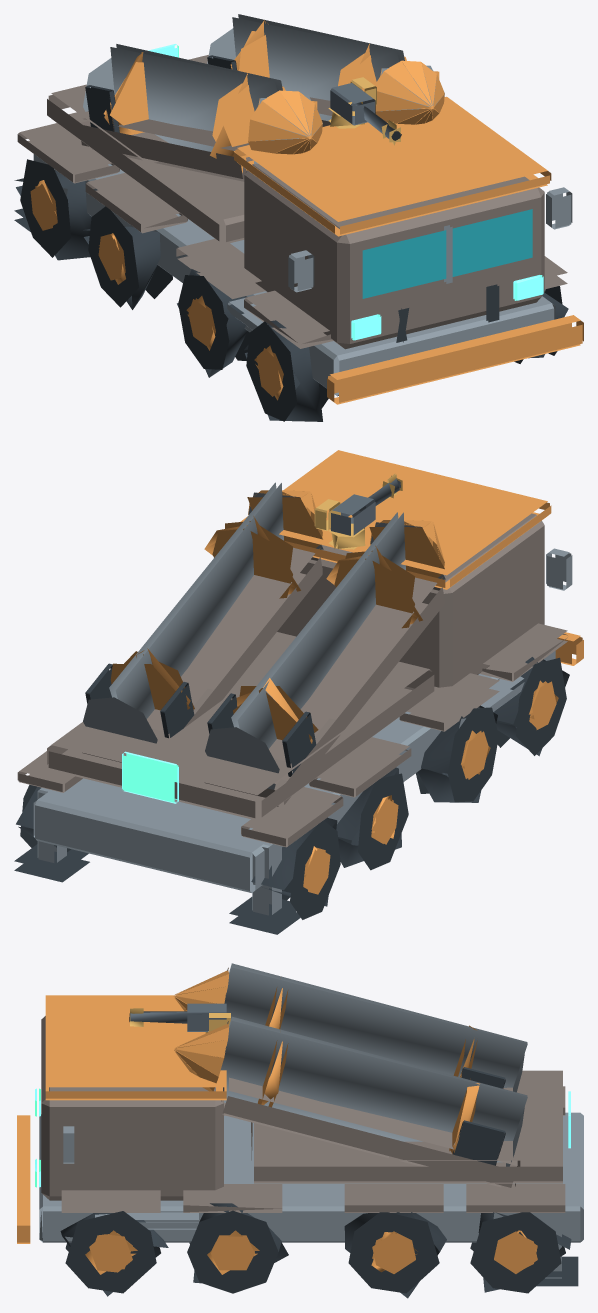
File: boss-missile-truck.glb
3 views of the same model, one above another, from view 1: azimuth 30°, elevation 25°; view 2: azimuth 150°, elevation 25°; view 3: azimuth 270°, elevation 25° (orthographic). The views are drawn at different scales.
Visible parts, largest first — view 1: Armored cab, Cab roof, Radiator grille, Truck chassis, Missile casing, Launch deck, Split windshield, Canister band, Missile casing.001, Canister band.002, Launcher cradle, Auxiliary receiver (+3 smaller); view 2: Armored cab, Truck chassis, Radiator grille, Cab roof, Launch deck, Missile casing, Missile casing.001, Launcher cradle, Launcher cradle.001, Canister band, Canister band.002, Core (+4 smaller); view 3: Armored cab, Cab roof, Radiator grille, Missile casing.001, Truck chassis, Missile casing, Launch deck, Launcher cradle.001, Canister band.002, Canister band, Missile fin.002, Auxiliary receiver (+2 smaller).
Boxes of the visible parts, box(x1,y1,x2,y2) form: Armored cab: box(17, 123, 567, 349); Cab roof: box(30, 96, 583, 404); Radiator grille: box(14, 159, 568, 421); Truck chassis: box(33, 154, 572, 396); Missile casing: box(83, 44, 322, 163); Launch deck: box(47, 55, 244, 244); Split windshield: box(362, 209, 532, 298); Canister band: box(103, 52, 322, 173); Missile casing.001: box(207, 14, 444, 121); Canister band.002: box(230, 20, 444, 124); Launcher cradle: box(81, 118, 253, 181); Auxiliary receiver: box(330, 83, 401, 138); Armored cab: box(17, 513, 567, 847); Truck chassis: box(33, 548, 572, 915); Radiator grille: box(14, 657, 569, 934); Cab roof: box(240, 450, 583, 894); Launch deck: box(47, 632, 434, 820); Missile casing: box(205, 512, 445, 789); Missile casing.001: box(83, 482, 323, 743); Launcher cradle: box(204, 577, 445, 806); Launcher cradle.001: box(82, 547, 322, 762); Canister band: box(233, 520, 444, 743); Canister band.002: box(110, 490, 322, 710); Core: box(122, 751, 178, 803); Armored cab: box(41, 1016, 565, 1212); Cab roof: box(17, 995, 537, 1274); Radiator grille: box(60, 1203, 578, 1298); Missile casing.001: box(221, 1016, 527, 1166); Truck chassis: box(39, 1112, 583, 1278); Missile casing: box(224, 963, 527, 1092); Launch deck: box(251, 1070, 562, 1183); Launcher cradle.001: box(221, 1077, 520, 1187); Canister band.002: box(174, 1021, 479, 1153); Canister band: box(173, 968, 477, 1077); Missile fin.002: box(452, 1120, 505, 1165); Auxiliary receiver: box(130, 1003, 226, 1031).
Size of the model in its own units: 4.01 by 3.85 by 7.95.
